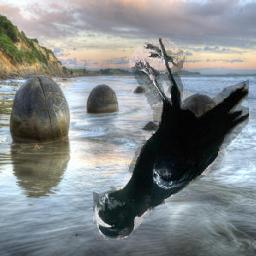Crow: (93, 38, 249, 240)
